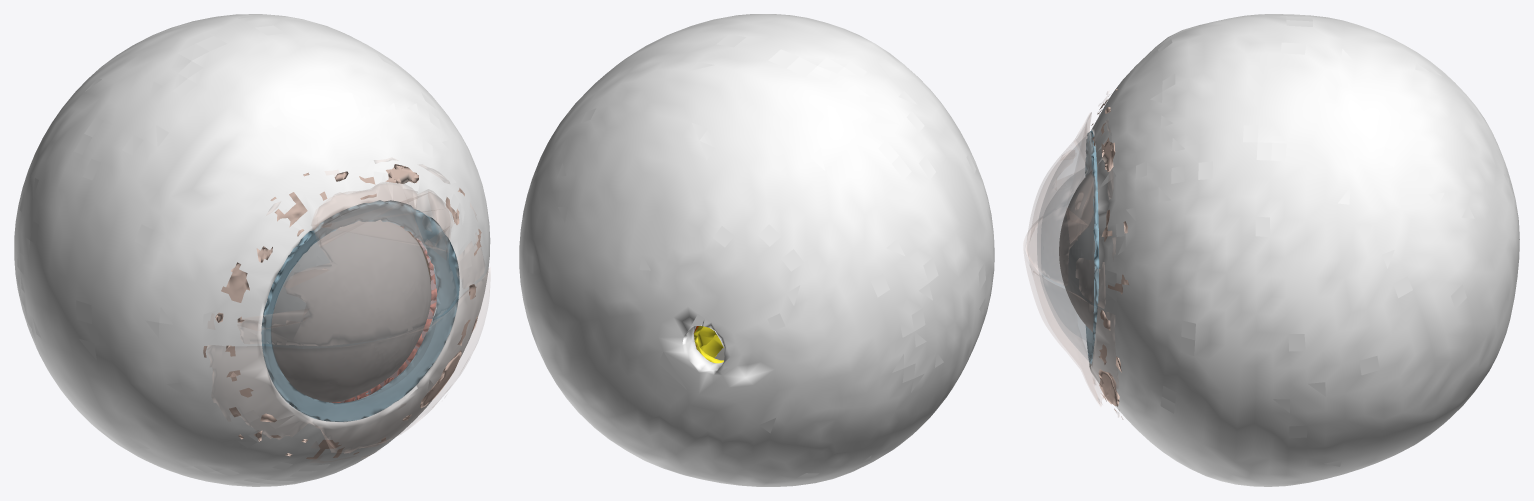
Rendered from 3d-vh-m-eye-l-80.glb.
3 renders of one model, left to right at view 1: azimuth 30°, elevation 25°; view 2: azimuth 150°, elevation 25°; view 3: azimuth 270°, elevation 25°, orthographic.
Parts seen in each view (by area): view 1: VH_M_sclera_L, VH_M_cornea_L, VH_M_palpebral_conjunctiva_of_lower_eyelid_L, VH_M_palpebral_conjunctiva_of_upper_eyelid_L, VH_M_aqueous_humor_L, VH_M_corneo_scleral_junction_L, VH_M_bulbar_conjunctiva_L, VH_M_ciliary_muscle_L; view 2: VH_M_sclera_L, VH_M_optic_disc_L; view 3: VH_M_sclera_L, VH_M_cornea_L, VH_M_palpebral_conjunctiva_of_upper_eyelid_L, VH_M_palpebral_conjunctiva_of_lower_eyelid_L, VH_M_aqueous_humor_L, VH_M_bulbar_conjunctiva_L, VH_M_corneo_scleral_junction_L.
Boxes of the visible parts, left/top/right/bottom form: VH_M_sclera_L: left=14, top=14, right=490, bottom=486; VH_M_cornea_L: left=262, top=202, right=459, bottom=421; VH_M_palpebral_conjunctiva_of_lower_eyelid_L: left=207, top=268, right=489, bottom=462; VH_M_palpebral_conjunctiva_of_upper_eyelid_L: left=208, top=158, right=484, bottom=345; VH_M_aqueous_humor_L: left=271, top=220, right=431, bottom=402; VH_M_corneo_scleral_junction_L: left=261, top=200, right=459, bottom=421; VH_M_bulbar_conjunctiva_L: left=203, top=164, right=481, bottom=459; VH_M_ciliary_muscle_L: left=332, top=227, right=437, bottom=402; VH_M_sclera_L: left=519, top=14, right=994, bottom=486; VH_M_optic_disc_L: left=697, top=326, right=723, bottom=357; VH_M_sclera_L: left=1089, top=14, right=1519, bottom=486; VH_M_cornea_L: left=1037, top=134, right=1097, bottom=363; VH_M_palpebral_conjunctiva_of_upper_eyelid_L: left=1027, top=91, right=1115, bottom=308; VH_M_palpebral_conjunctiva_of_lower_eyelid_L: left=1023, top=227, right=1119, bottom=416; VH_M_aqueous_humor_L: left=1059, top=169, right=1095, bottom=332; VH_M_bulbar_conjunctiva_L: left=1091, top=88, right=1128, bottom=419; VH_M_corneo_scleral_junction_L: left=1085, top=130, right=1099, bottom=363.
Size of the model in its own units: 0.0245 by 0.0244 by 0.0257.
